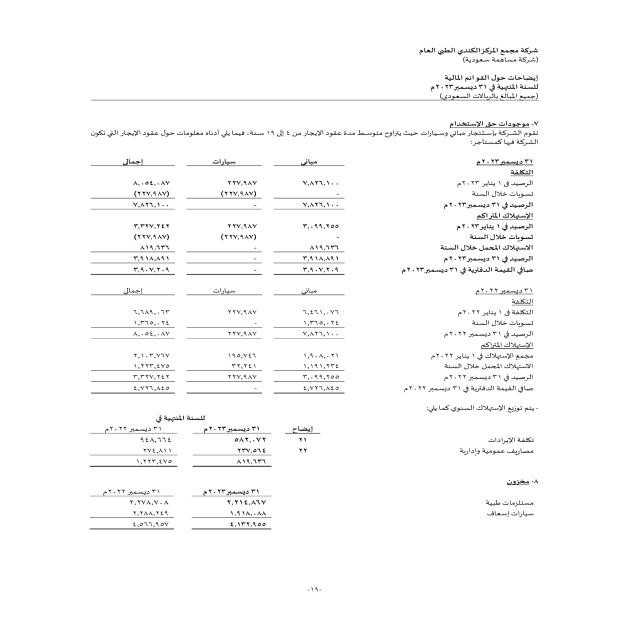notes: (436, 73, 541, 82)
table: (57, 152, 356, 405), (53, 414, 326, 540)
